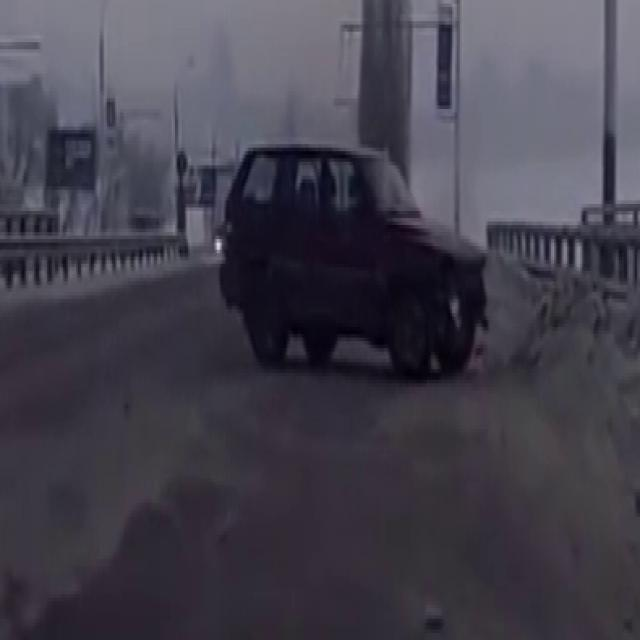accident: (216, 126, 502, 419)
